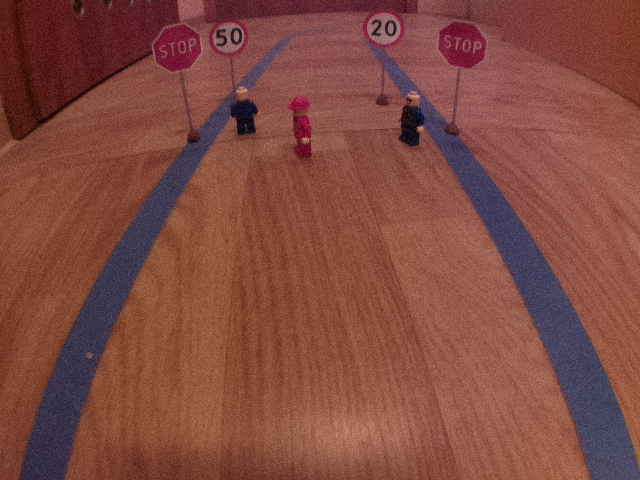LEGO_person: (286, 94, 322, 161), (226, 83, 263, 138), (394, 89, 427, 149)
ogr_20: (360, 8, 407, 50)
ogr_50: (208, 17, 251, 58)
stop: (435, 17, 491, 72), (149, 20, 204, 76)
